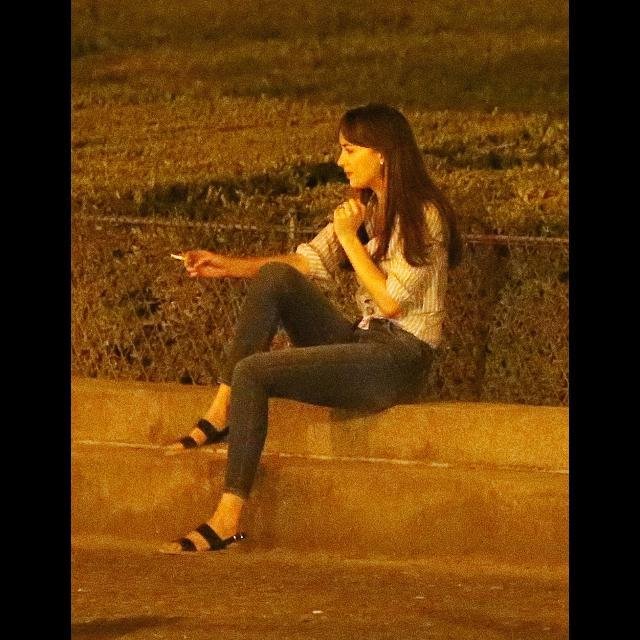rokok: (164, 252, 183, 262)
